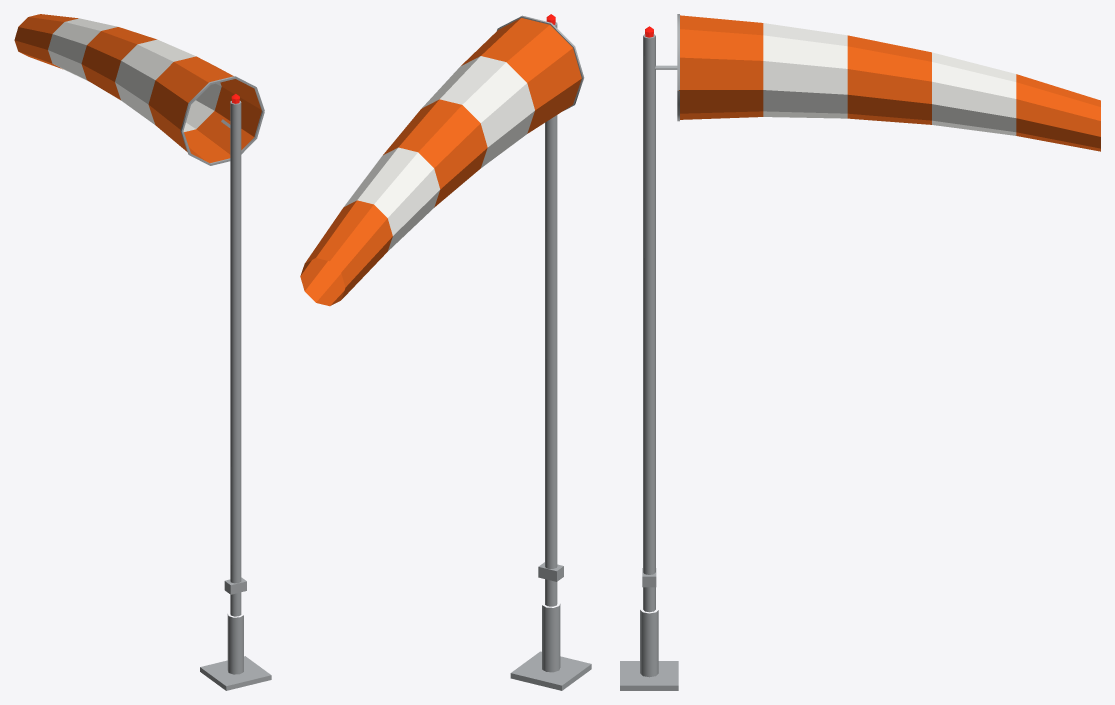
File: windsock.glb
The picture shows the model from 3 angles, left to right: view 1: azimuth 30°, elevation 25°; view 2: azimuth 150°, elevation 25°; view 3: azimuth 270°, elevation 25°; orthographic projection. The views are drawn at different scales.
Visible parts, largest first — view 1: Sock, LOD0; view 2: Sock, LOD0; view 3: Sock, LOD0.
Part boxes in pixels (<box>): Sock: <box>14,14,264,165</box>; LOD0: <box>200,94,271,690</box>; Sock: <box>300,15,584,306</box>; LOD0: <box>510,14,591,690</box>; Sock: <box>655,14,1100,151</box>; LOD0: <box>620,26,678,690</box>.
Size of the model in its own units: 0.9212 by 6.19 by 4.1.
4 materials, 1 textured.
